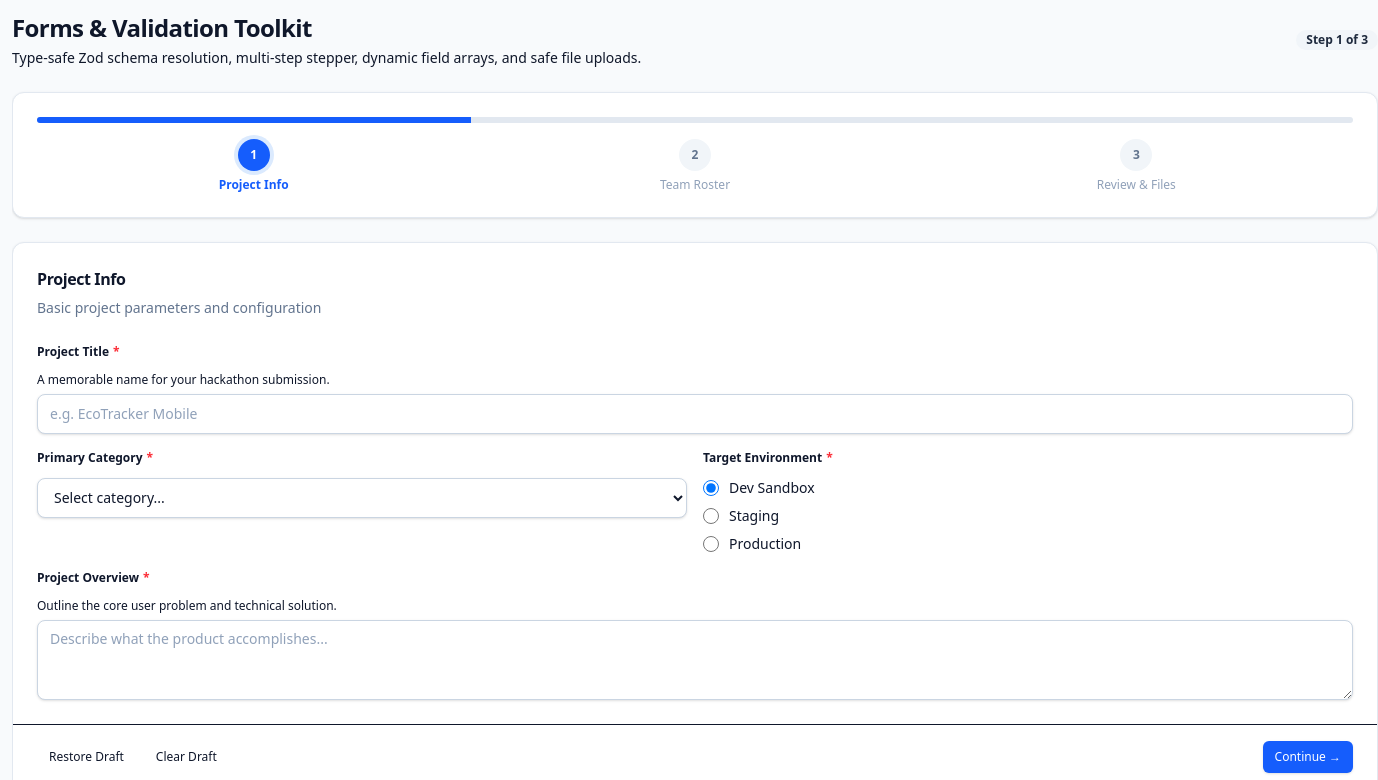
Forms & Validation Toolkit - Component Tests › FormDemo Interactive Flow › allows completing step 1 with valid inputs and advancing to step 2
The width and height of the screenshot is (1378, 780).
Type "EcoTracker Hackathon" into the field with placeholder "e.g. EcoTracker Mobile" at (695, 414), box [37,394,1353,434]
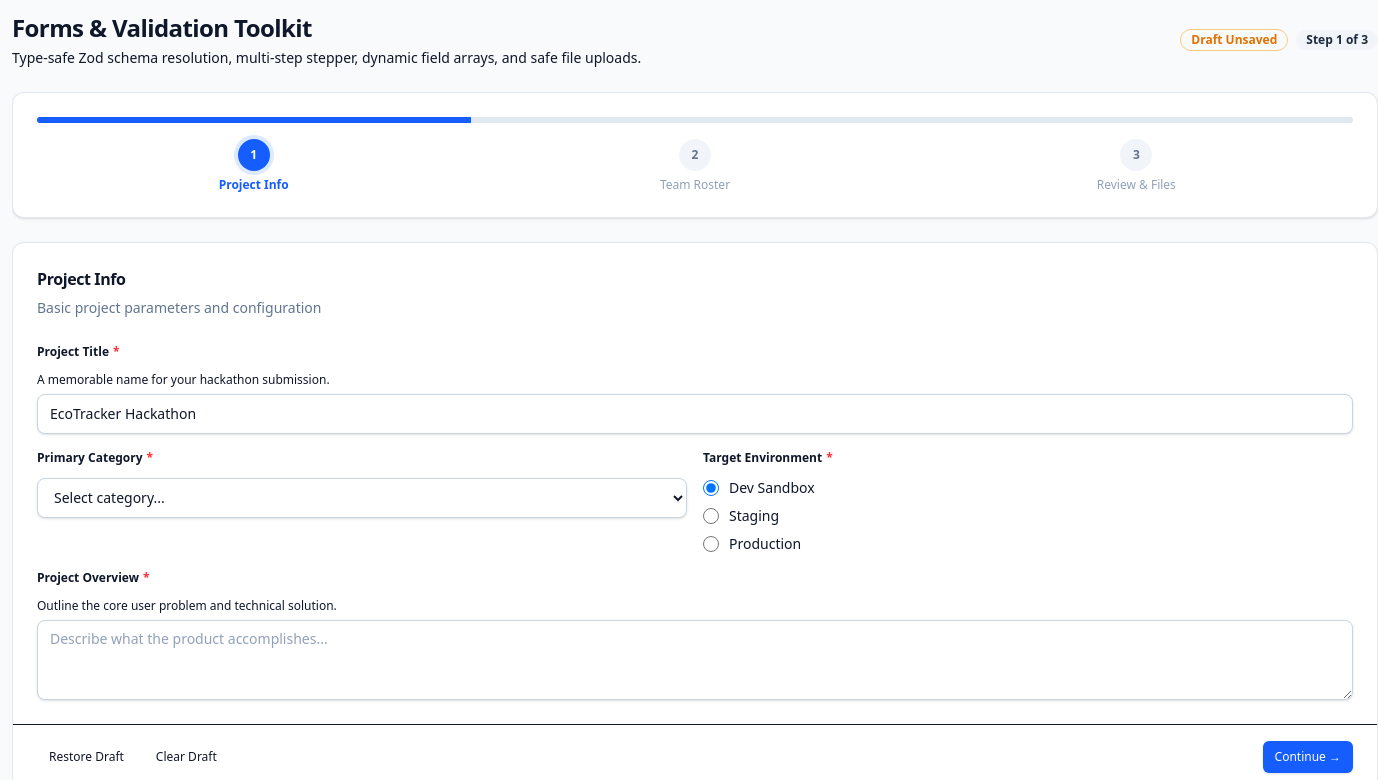
Select "Climate & Sustainability" in the dropdown at (362, 498), box [37,478,687,518]
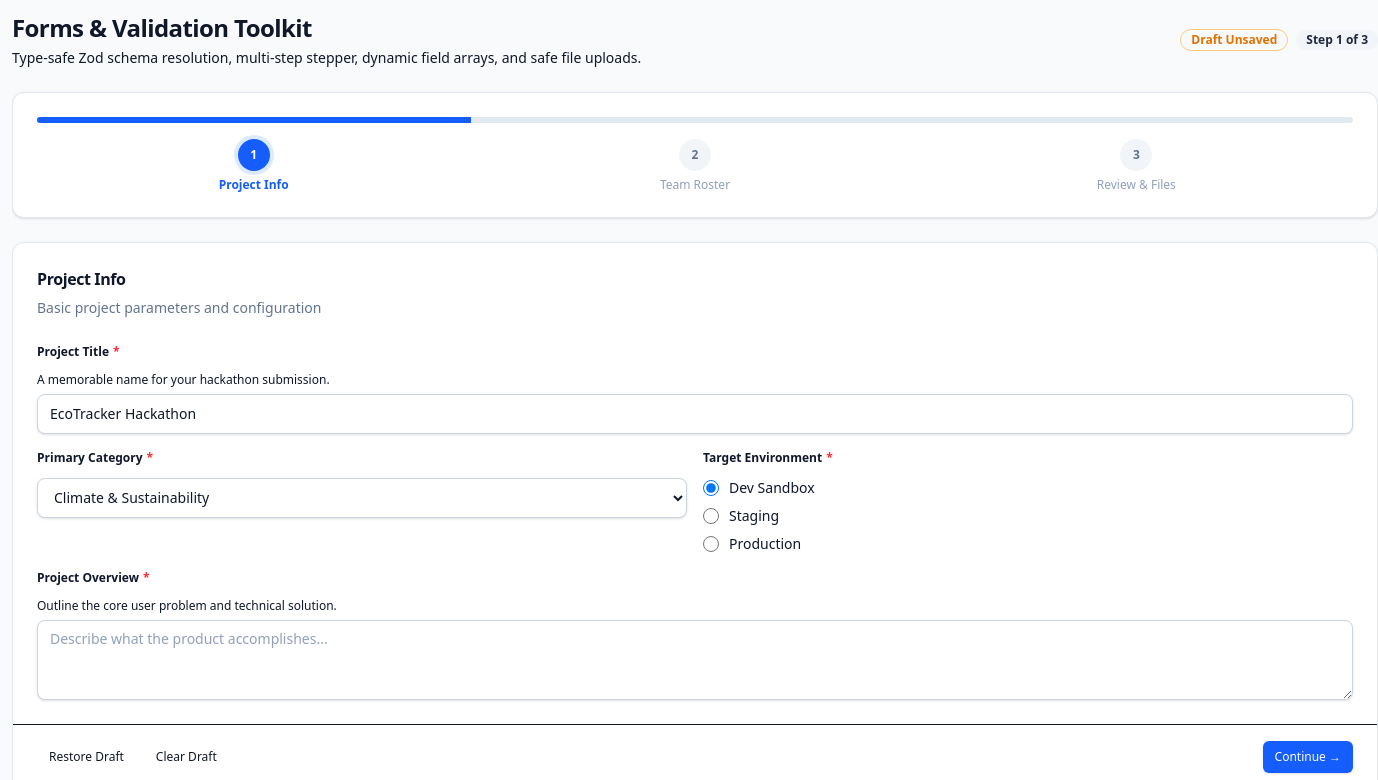
Type "Tracking carbon emissions across distributed cloud clusters." into the text box with placeholder "Describe what the product accomplishes..." at (695, 660), box [37,620,1353,700]
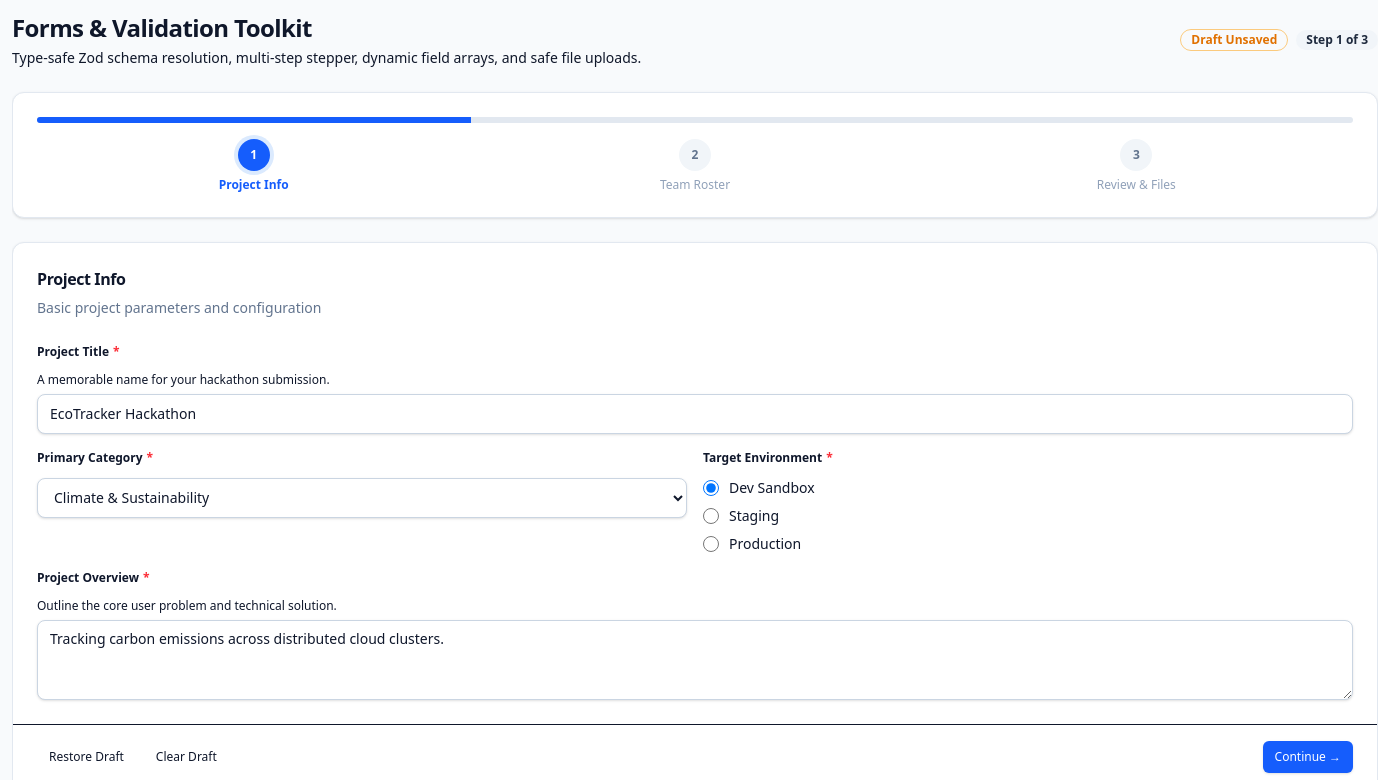
Click the button "Continue →" at (1308, 757), box [1263,741,1353,773]
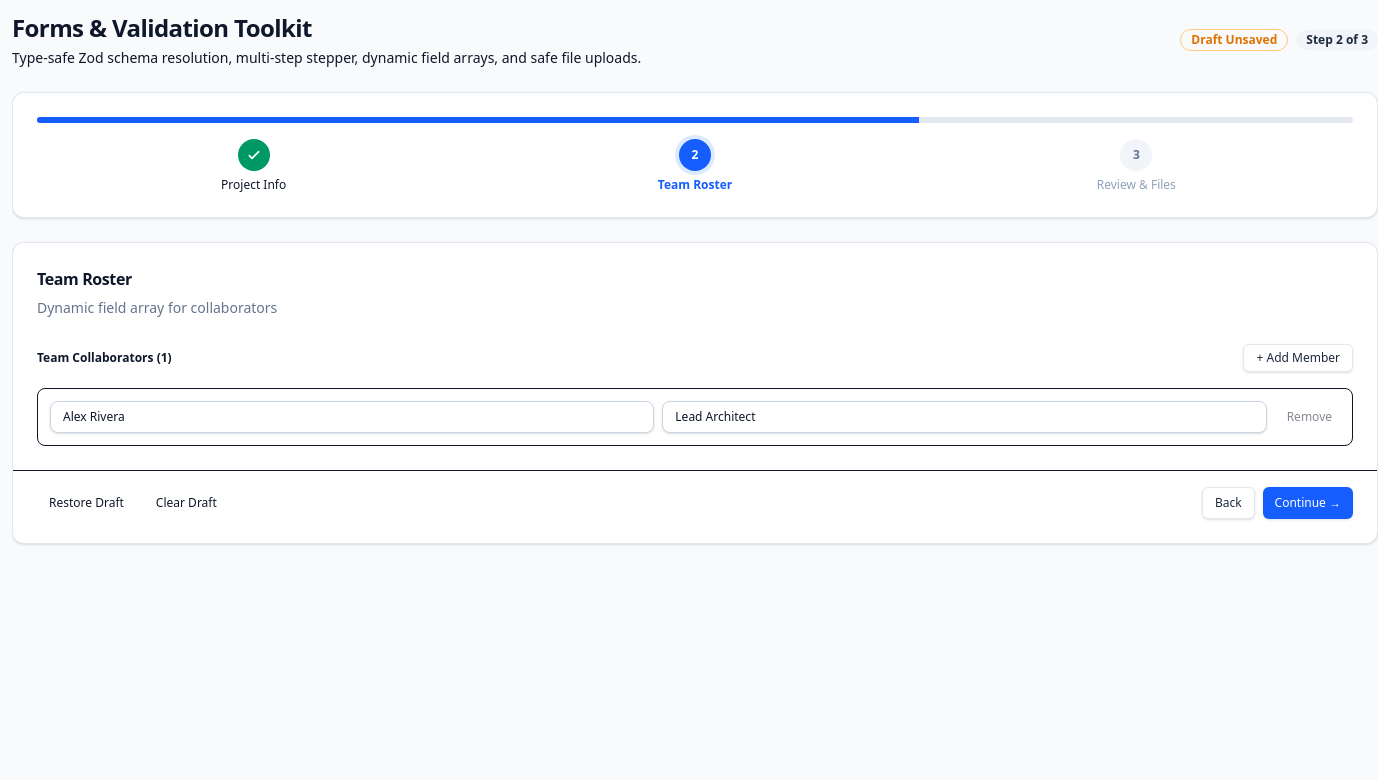
Expected: the heading "Team Roster" is shown, [37,268,132,290]
